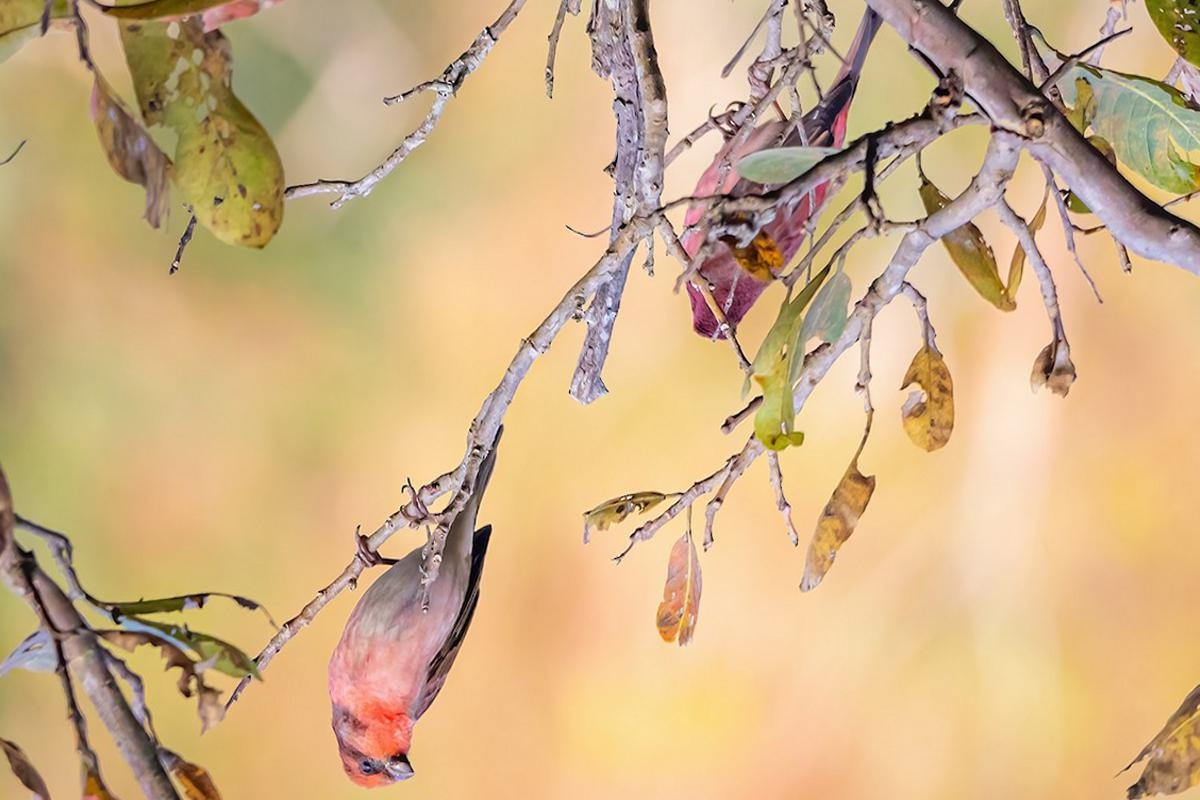rosefinch: (326, 490, 505, 790)
